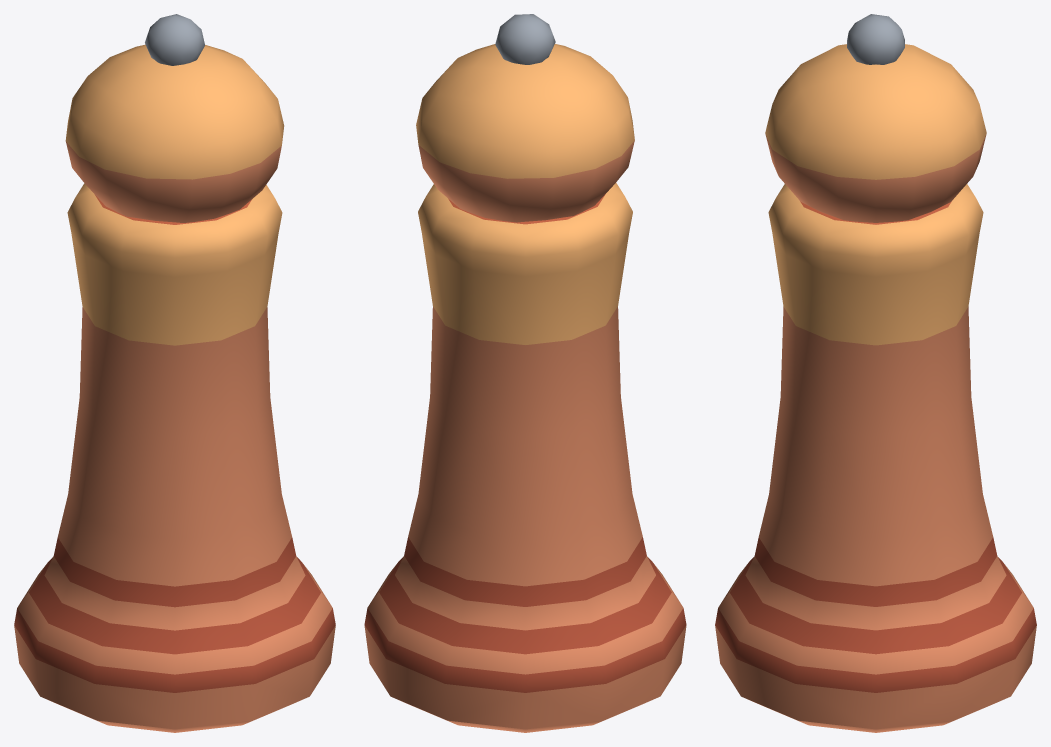
File: moedor_natal_pimenta_pacote.glb
3 renders of one model, left to right at view 1: azimuth 30°, elevation 25°; view 2: azimuth 150°, elevation 25°; view 3: azimuth 270°, elevation 25°, orthographic.
Parts seen in each view (by area): view 1: moedor_natal_pimenta_pacote; view 2: moedor_natal_pimenta_pacote; view 3: moedor_natal_pimenta_pacote.
Boxes of the visible parts, box(x1,y1,x2,y2) form: moedor_natal_pimenta_pacote: box(14, 14, 335, 732); moedor_natal_pimenta_pacote: box(364, 14, 686, 732); moedor_natal_pimenta_pacote: box(715, 14, 1036, 732).
Bounding box in the file's own units: 0.0639 × 0.1446 × 0.0639.
Materials: 1 (1 with a texture image).
